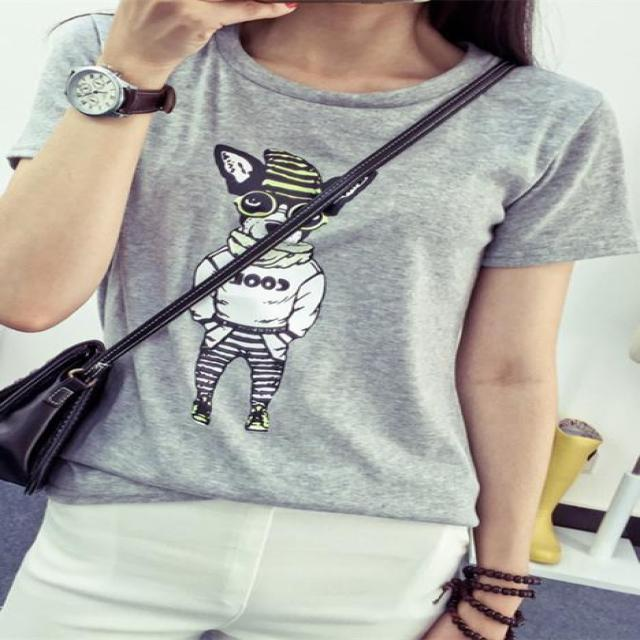short sleeve top: (14, 15, 635, 528)
trousers: (4, 443, 475, 639)
